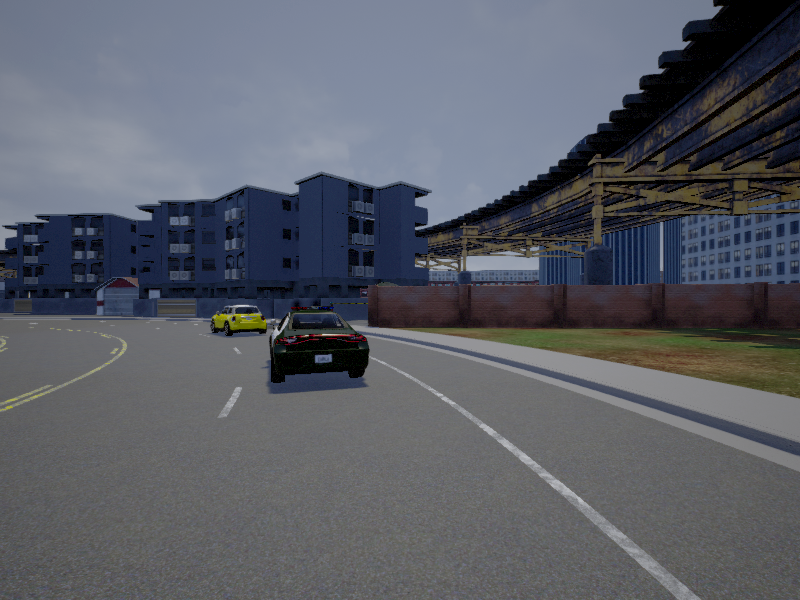Benign: (273, 304, 368, 386), (212, 303, 267, 335)
